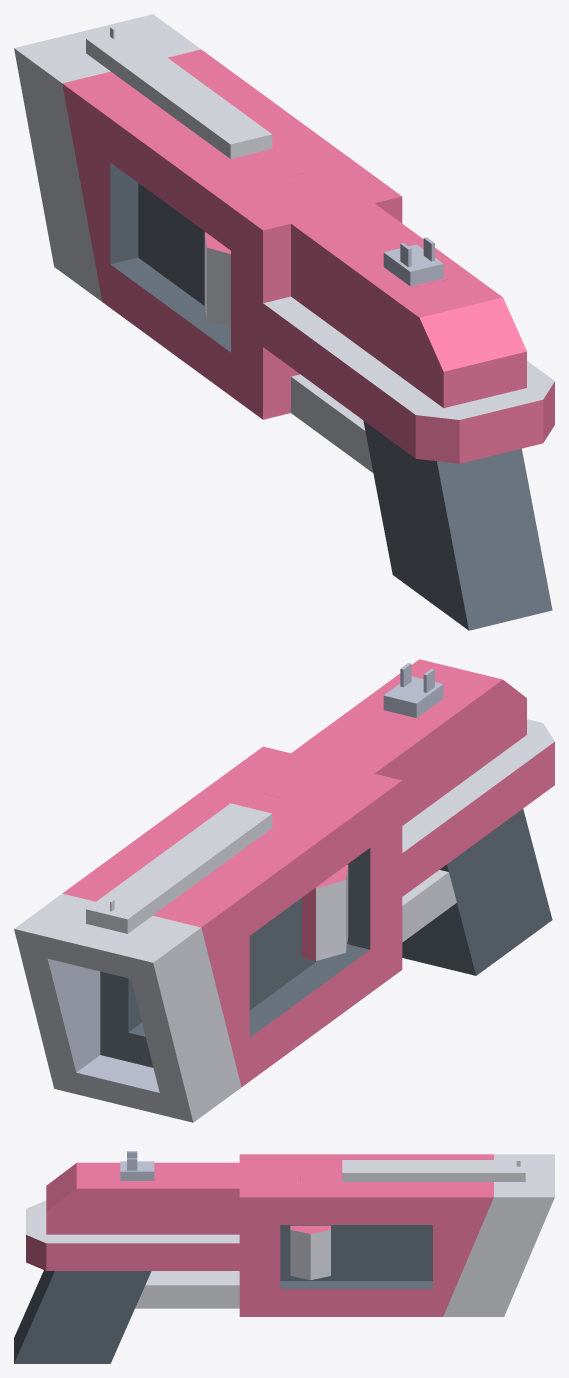
File: Blaster.glb
3 renders of one model, top to bottom at view 1: azimuth 30°, elevation 25°; view 2: azimuth 150°, elevation 25°; view 3: azimuth 270°, elevation 25°, orthographic. The views are drawn at different scales.
Visible parts, largest first — view 1: blasterH; view 2: blasterH; view 3: blasterH.
Part boxes in pixels (left/top/right/bottom): blasterH: left=14, top=14, right=554, bottom=630; blasterH: left=14, top=659, right=554, bottom=1122; blasterH: left=14, top=1151, right=554, bottom=1363.
Size of the model in its own units: 0.1 by 0.2122 by 0.5316.
